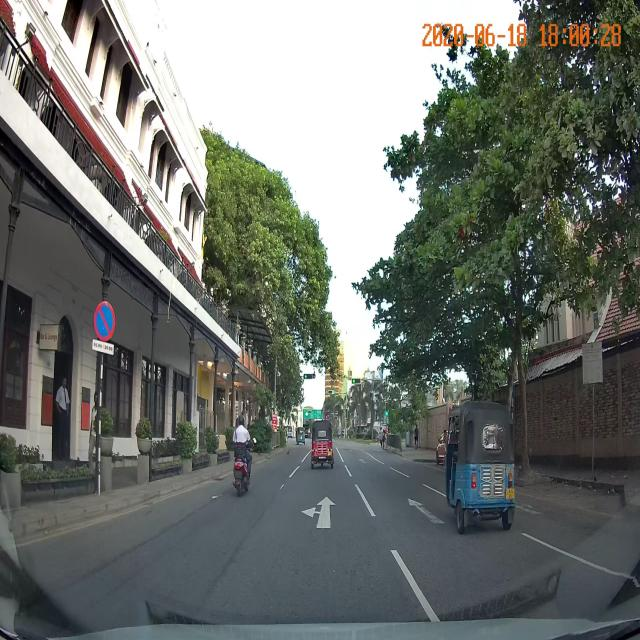forward_lft: (234, 485, 413, 574)
